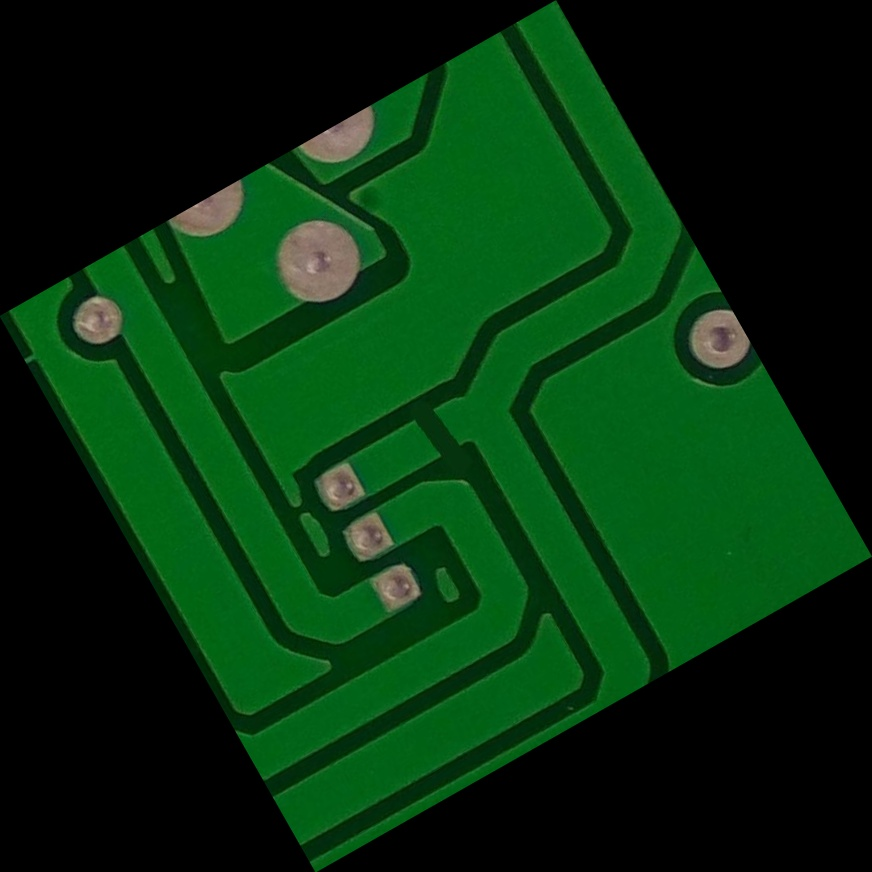open_circuit: (386, 385, 488, 487)
